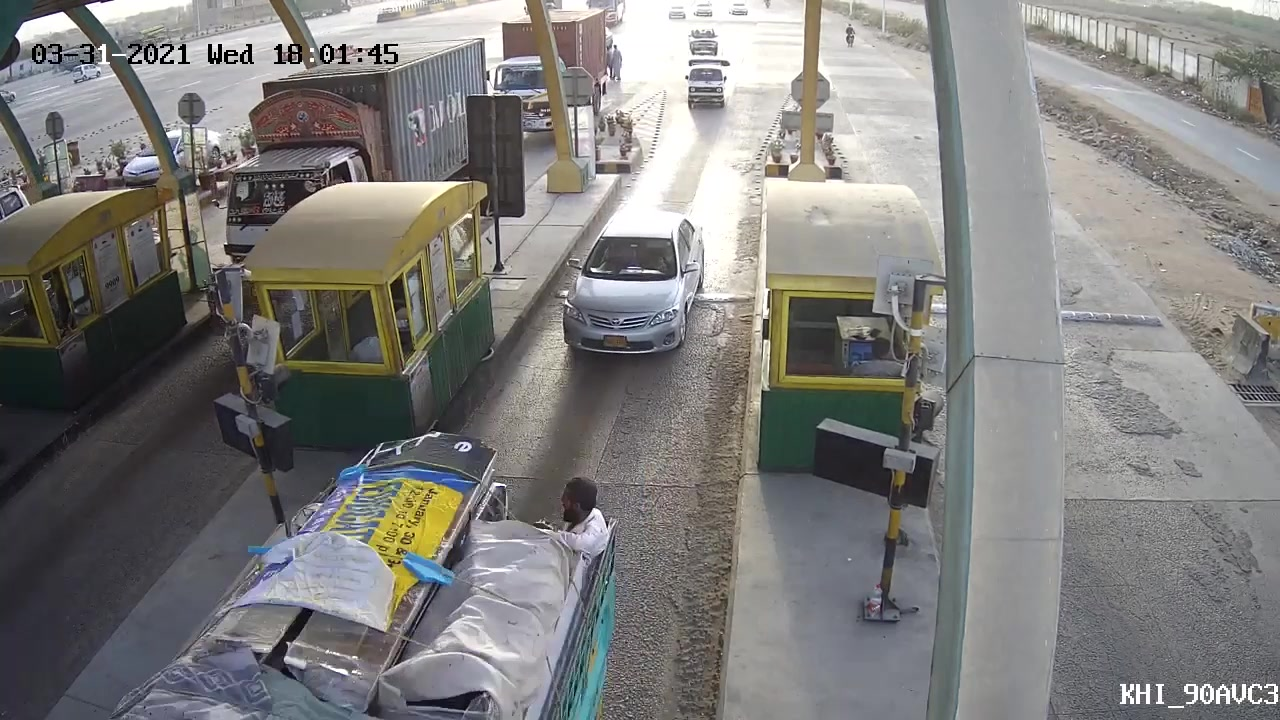F1: (537, 200, 719, 364)
